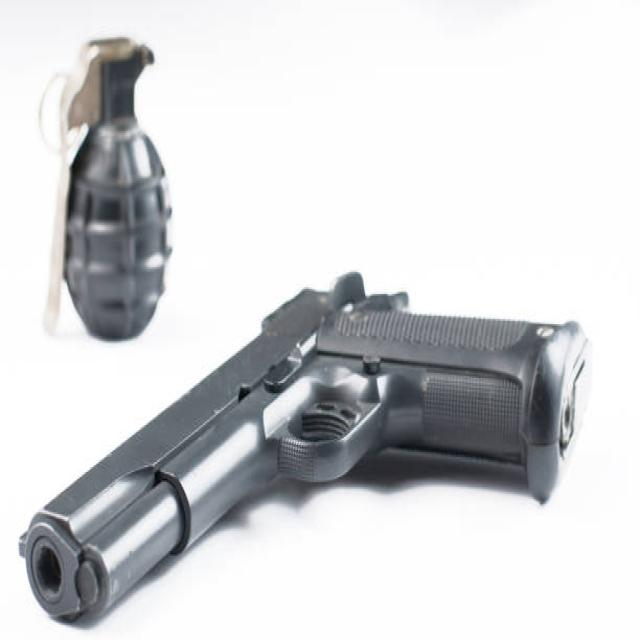grenade: (36, 30, 179, 355)
